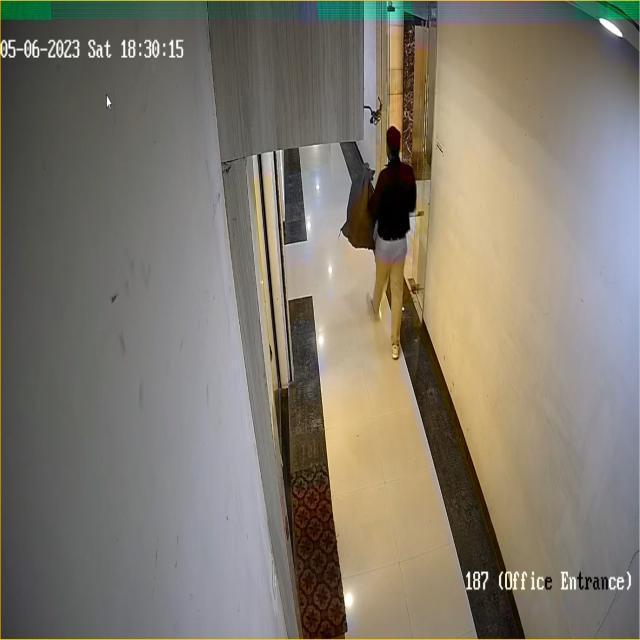gunny_bag: (340, 166, 378, 248)
